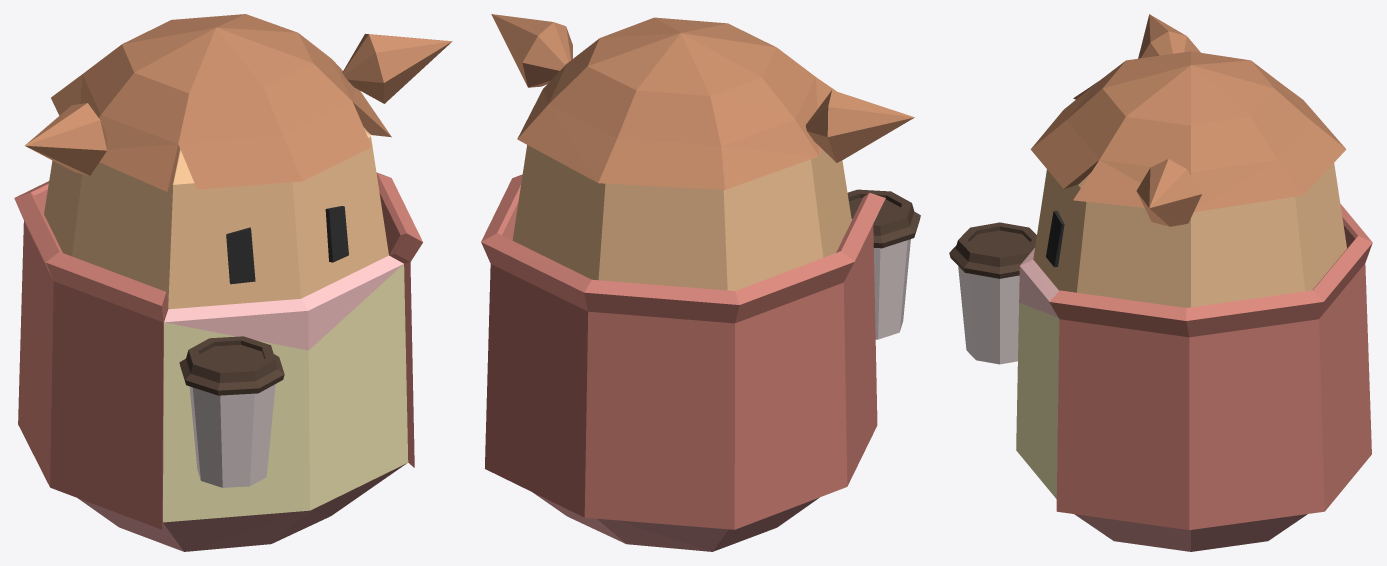
The model's file is Girl01.fbx.
The picture shows the model from 3 angles, left to right: view 1: azimuth 30°, elevation 25°; view 2: azimuth 150°, elevation 25°; view 3: azimuth 270°, elevation 25°; orthographic projection. The views are drawn at different scales.
Visible parts, largest first — view 1: Girl01; view 2: Girl01; view 3: Girl01.
Part boxes in pixels (box(x1,y1,x2,y2)): Girl01: box(14, 14, 452, 551); Girl01: box(481, 14, 920, 551); Girl01: box(949, 14, 1372, 551).
Size of the model in its own units: 66.8 by 61.55 by 74.49.
